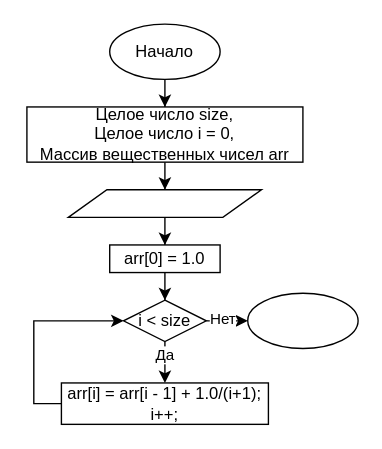
Some shapes in this 382 by 449 pixel diagram are drawn without their labels. The shapes that lost their labels are listed below. From the top down, each one's centre as x and y in pixels, then its label:
pixel 164 202: Получение size, arr
pixel 302 320: Конец
